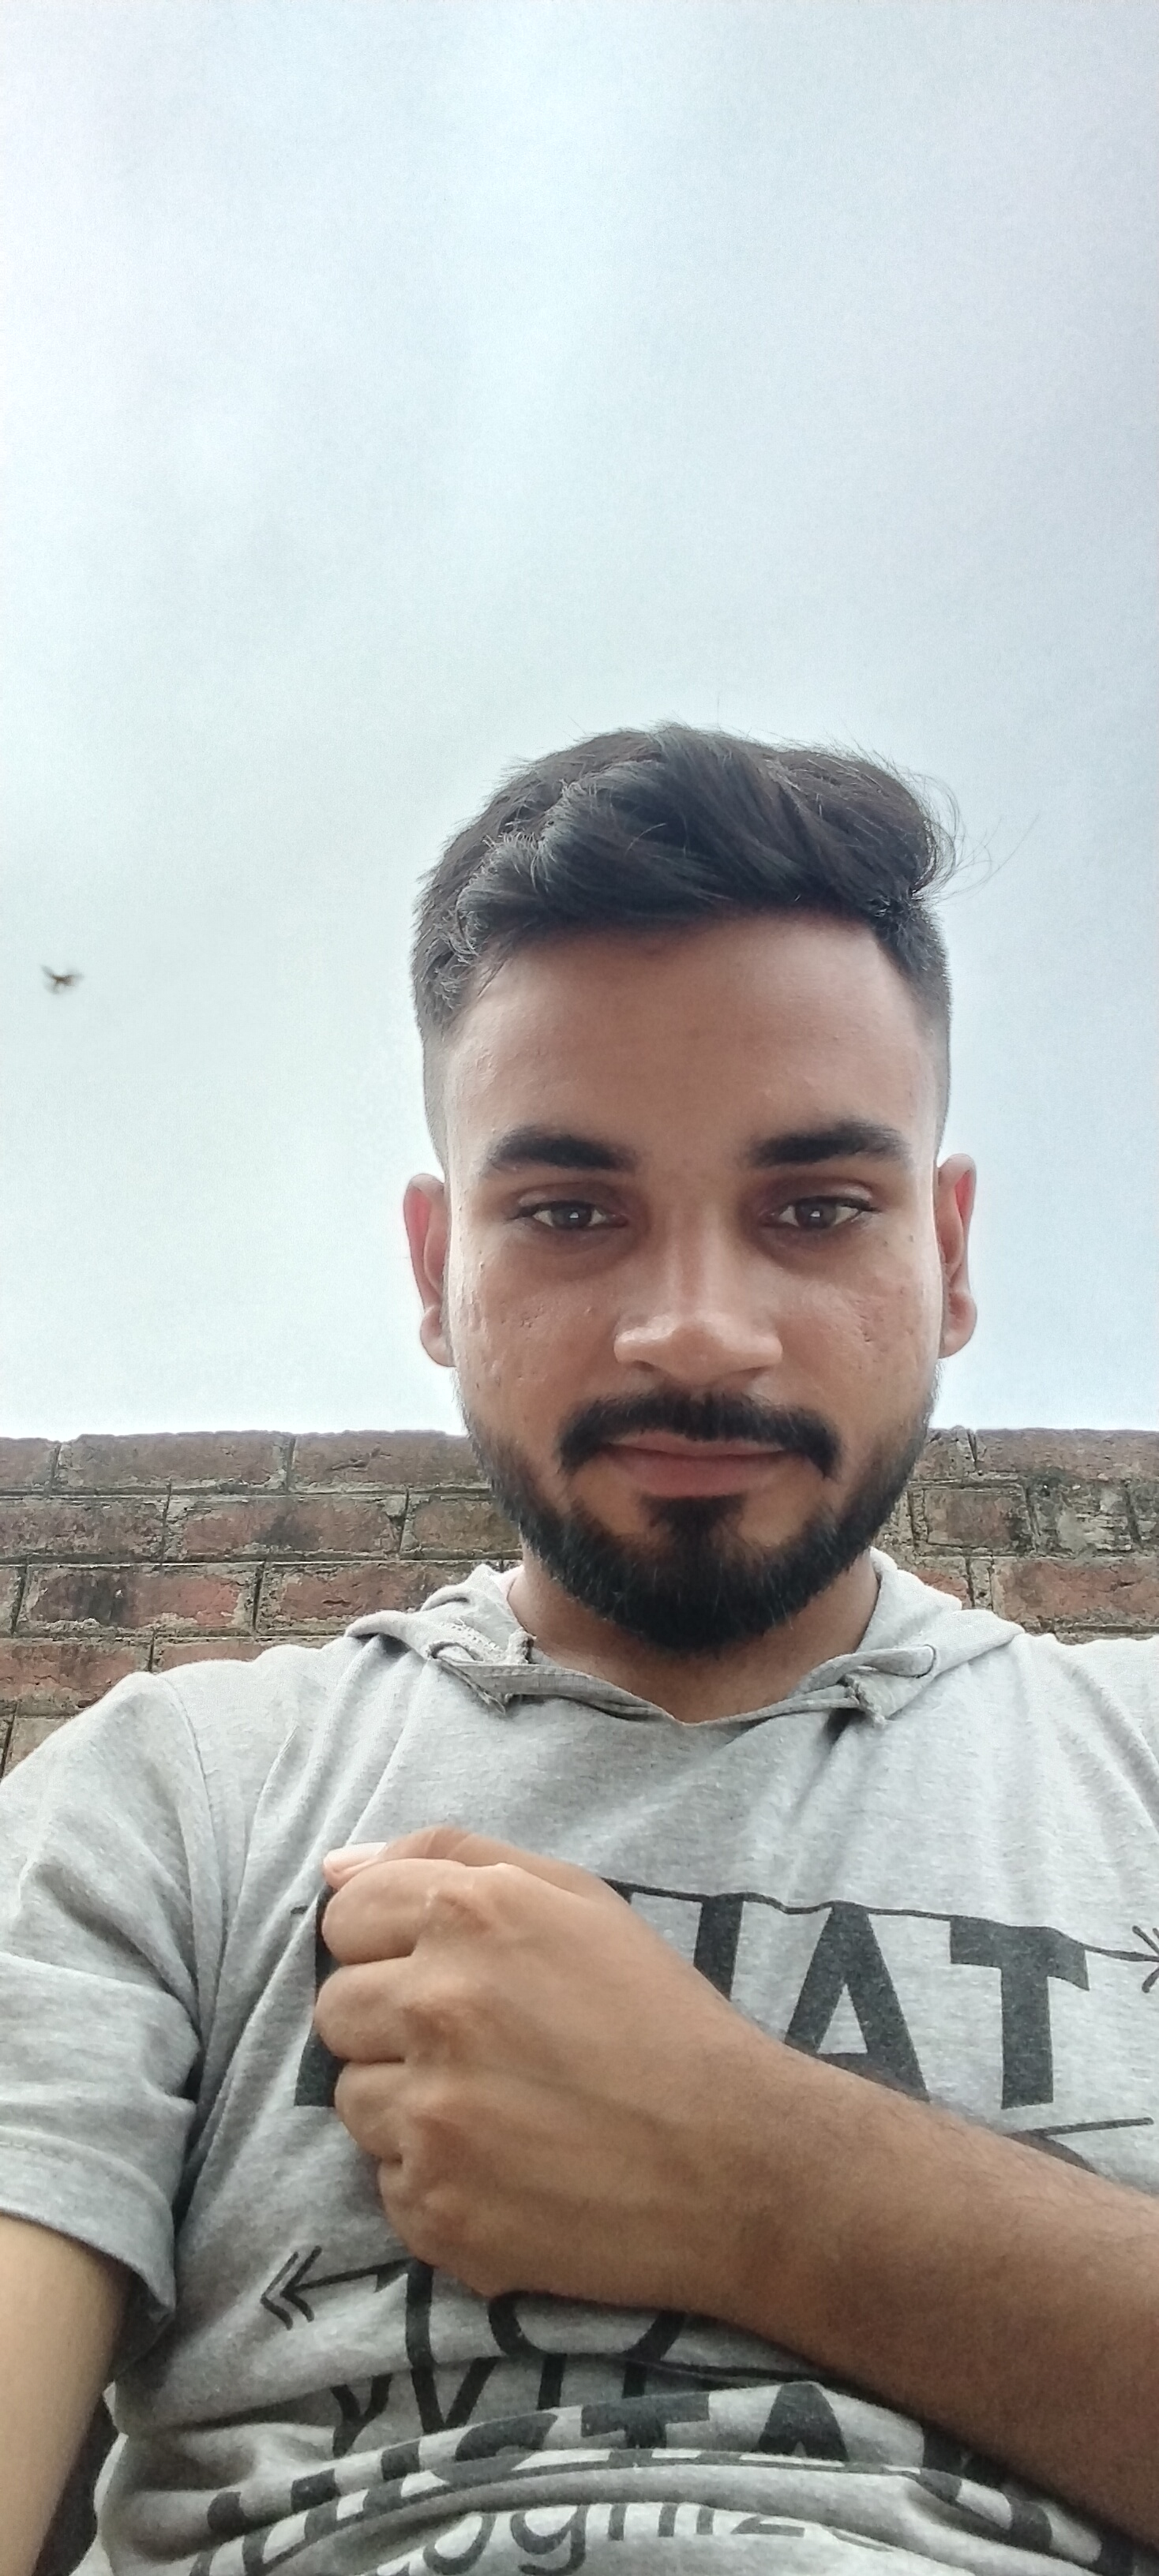Sorry: (291, 1791, 764, 2364)
